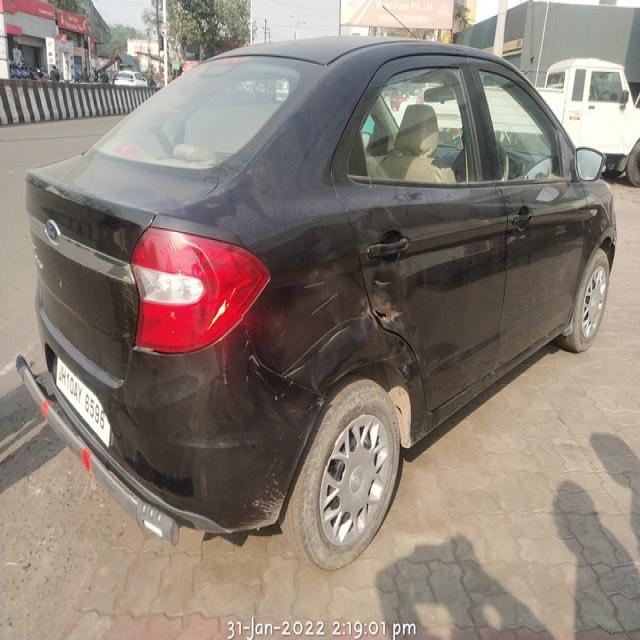damage: (279, 274, 374, 377), (367, 277, 410, 332)
